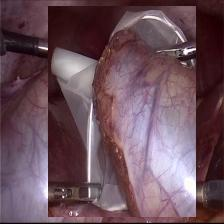Grasper: (144, 181, 208, 211), (30, 40, 88, 66)
Specimen Bag: (48, 6, 196, 217)
